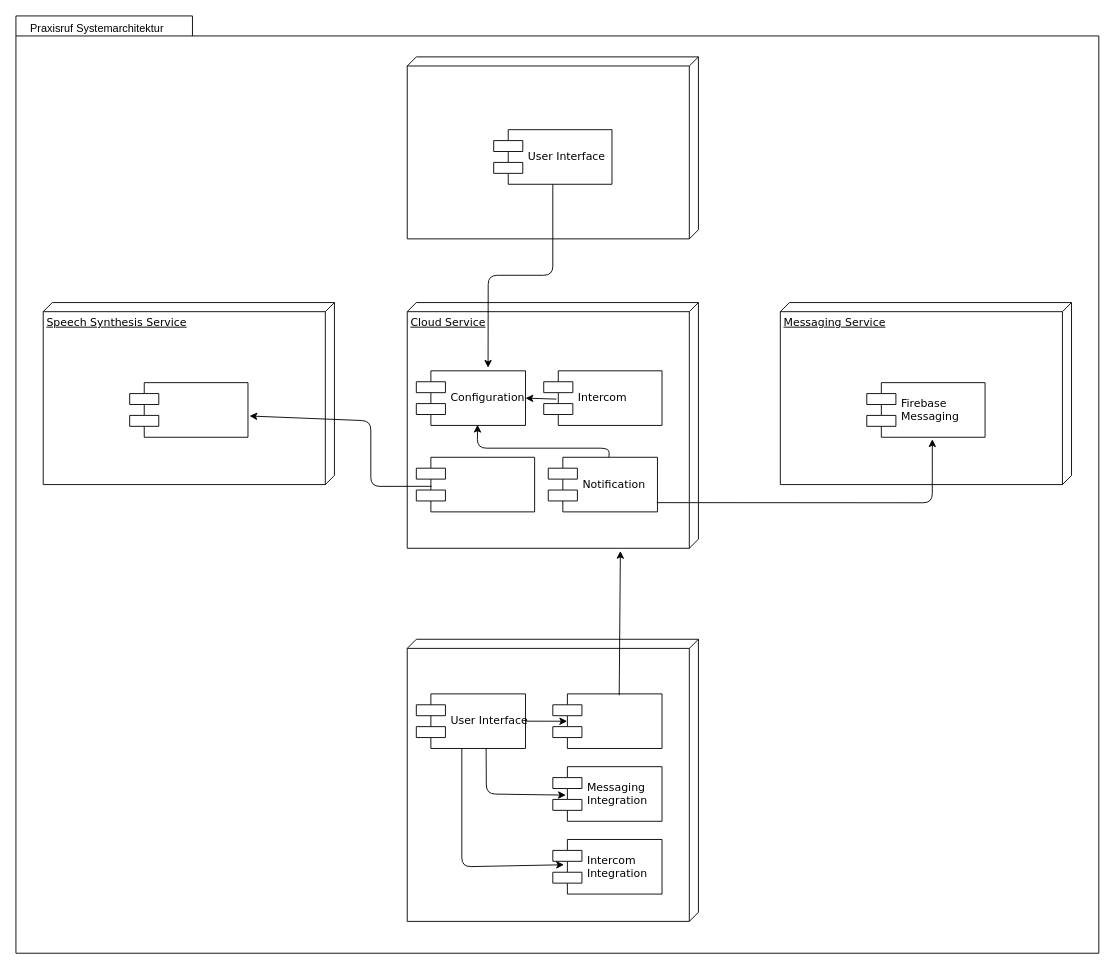
This 1115x969 diagram has some shape labels left out. Each missing label, with the box of its shape:
Admin UI: (406, 56, 698, 239)
AWS Polly: (129, 382, 248, 437)
Cloud API Integration: (552, 693, 662, 748)
Mobile Client: (406, 638, 698, 921)
Speech Synthesis: (415, 456, 535, 512)
